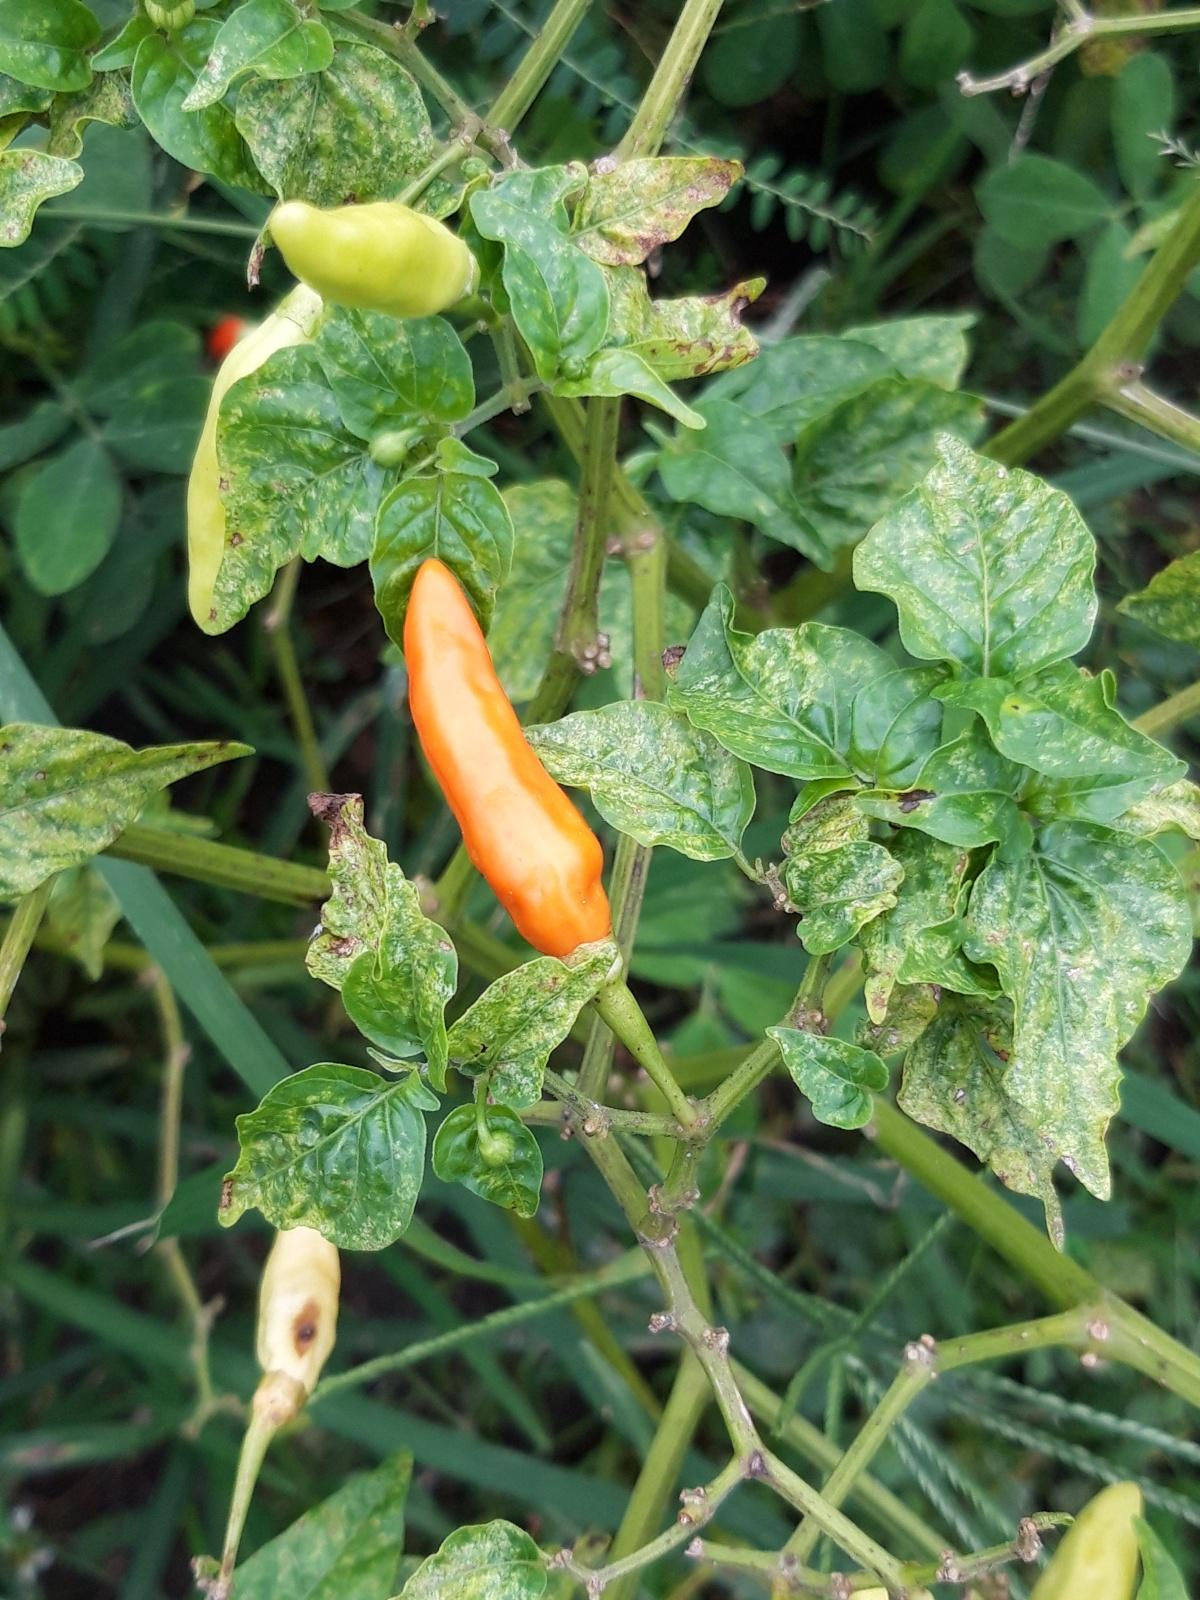cabai_normal: (402, 559, 608, 957), (268, 202, 474, 316)
lalat_buah: (252, 1221, 343, 1393)
